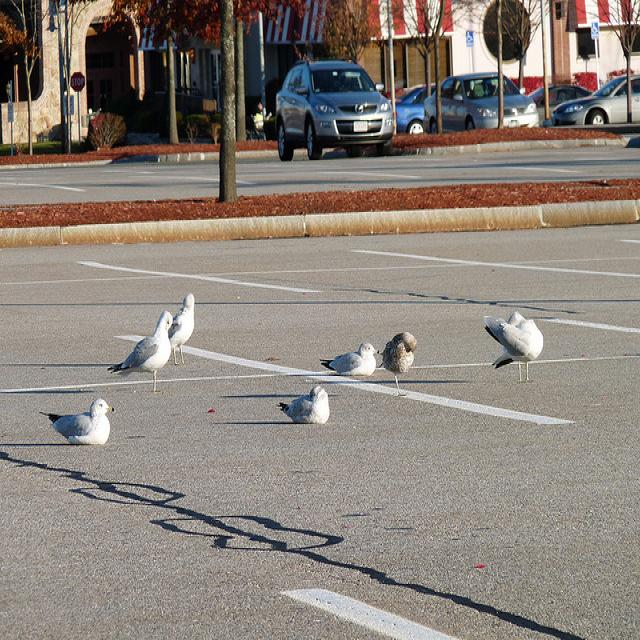Vehicle: (275, 59, 393, 162), (423, 72, 540, 134), (551, 73, 640, 126), (522, 84, 596, 127), (395, 84, 435, 134)
